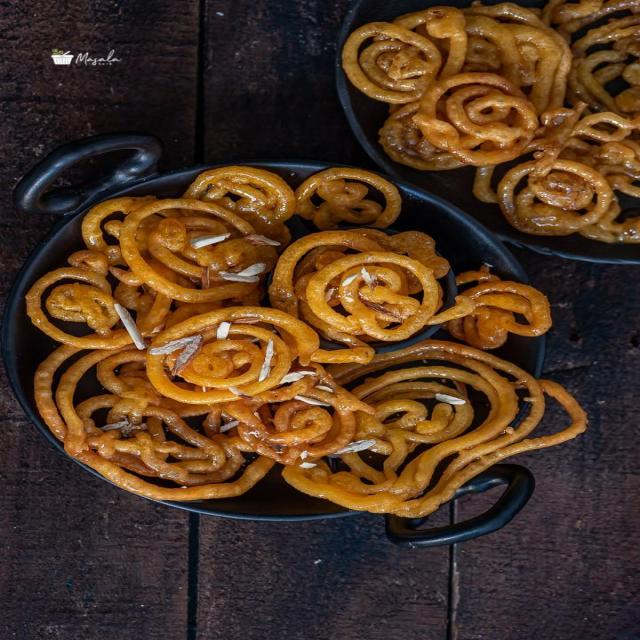jalebi: (21, 175, 530, 514), (355, 5, 640, 284)
